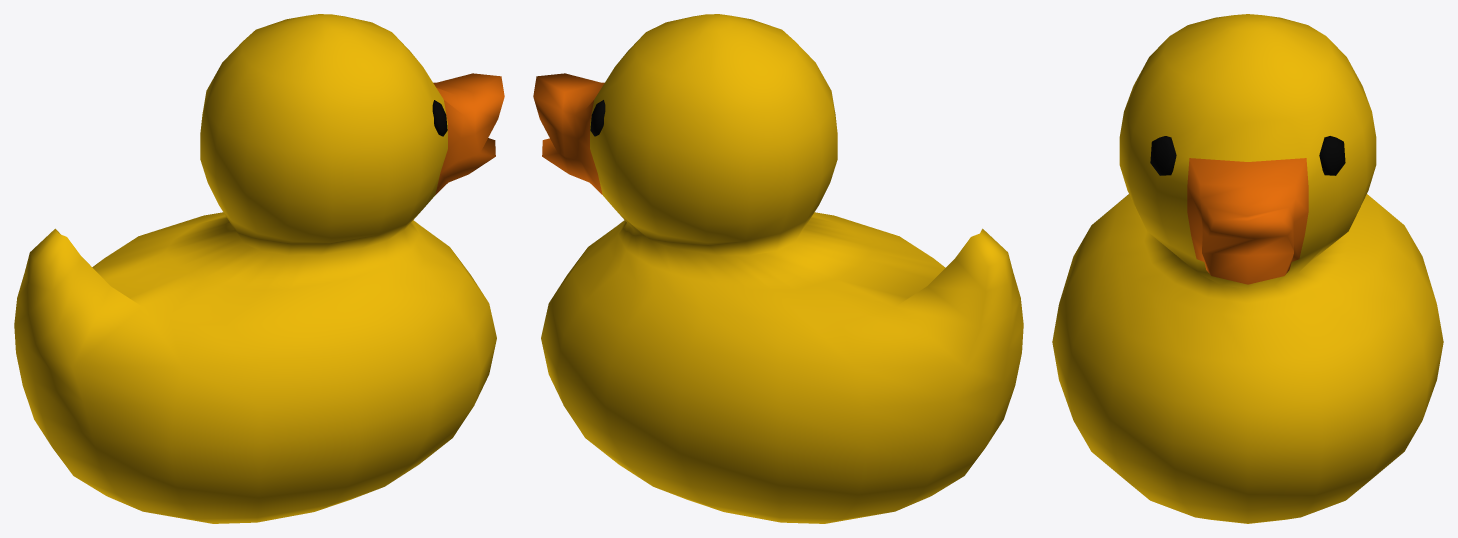
File: RubberDuck.fbx
The picture shows the model from 3 angles, left to right: view 1: azimuth 30°, elevation 25°; view 2: azimuth 150°, elevation 25°; view 3: azimuth 270°, elevation 25°; orthographic projection. The views are drawn at different scales.
Parts seen in each view (by area): view 1: Duck; view 2: Duck; view 3: Duck.
Part boxes in pixels (<box>): Duck: <box>14,14,504,523</box>; Duck: <box>533,14,1023,523</box>; Duck: <box>1052,14,1443,523</box>.
Bounding box in the file's own units: 10.72 × 9.58 × 7.15.
